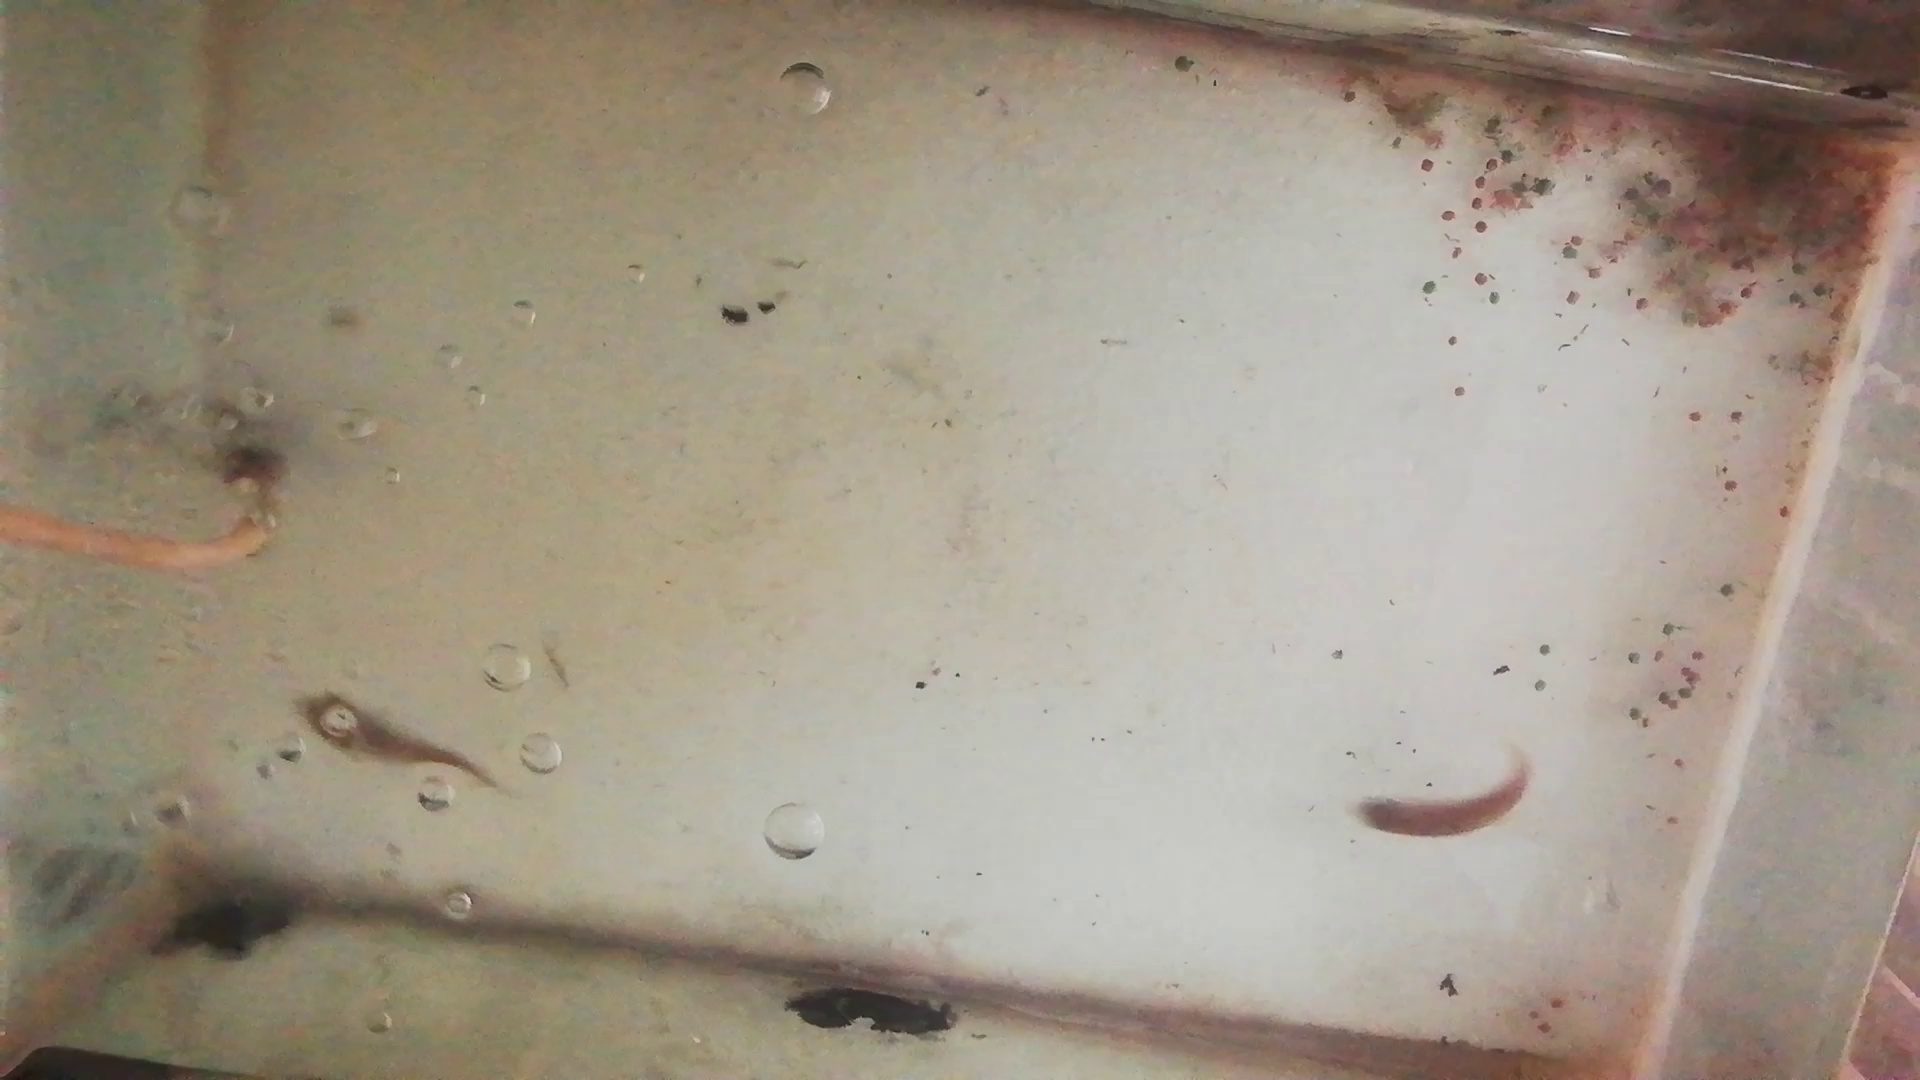fish: (285, 688, 484, 793), (1354, 770, 1536, 843)
